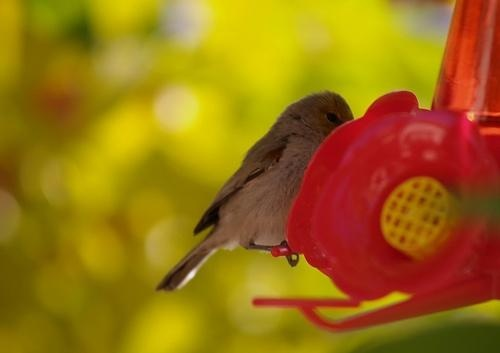bird: (153, 87, 358, 297)
